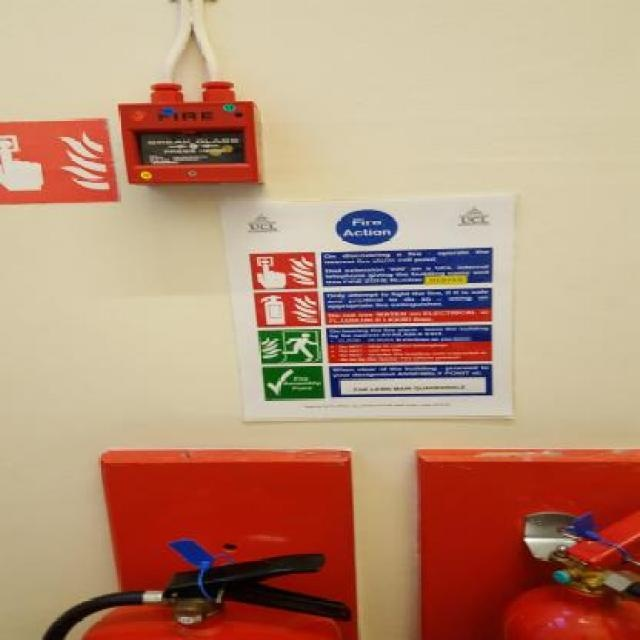fire extinguisher: (42, 552, 350, 640), (498, 516, 634, 636)
